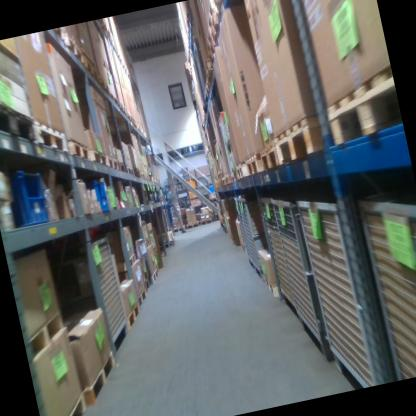pallet: (317, 67, 405, 162), (271, 112, 329, 172), (76, 348, 124, 412), (26, 302, 72, 364), (0, 91, 37, 149), (31, 113, 70, 160), (258, 135, 284, 176), (45, 393, 88, 416), (59, 35, 84, 68), (66, 134, 91, 166), (122, 297, 144, 333), (244, 151, 267, 184), (78, 48, 99, 81), (206, 6, 225, 42), (112, 250, 138, 274), (88, 144, 109, 171), (232, 157, 251, 186), (205, 32, 221, 63), (202, 0, 220, 26), (202, 26, 218, 55), (95, 69, 111, 98), (134, 285, 150, 311), (264, 272, 279, 298), (97, 52, 112, 76), (146, 267, 161, 287), (104, 152, 118, 173), (203, 58, 215, 82), (108, 88, 121, 110), (117, 97, 128, 118), (125, 162, 136, 179), (141, 237, 153, 252), (141, 276, 151, 293), (116, 159, 126, 175), (171, 224, 186, 234), (199, 216, 215, 225), (223, 173, 233, 186), (185, 220, 199, 229), (204, 80, 212, 94), (201, 109, 207, 123), (133, 166, 140, 178), (152, 243, 159, 254), (240, 242, 246, 253), (226, 143, 232, 154), (140, 171, 146, 181), (216, 171, 222, 179), (218, 178, 222, 188), (220, 170, 225, 177)
small_load_carrier: (3, 162, 52, 231), (86, 177, 112, 216)
stillage: (294, 186, 392, 392), (352, 179, 416, 381), (272, 188, 336, 367), (67, 233, 136, 364), (259, 189, 301, 328), (238, 190, 277, 281), (233, 195, 255, 271)
